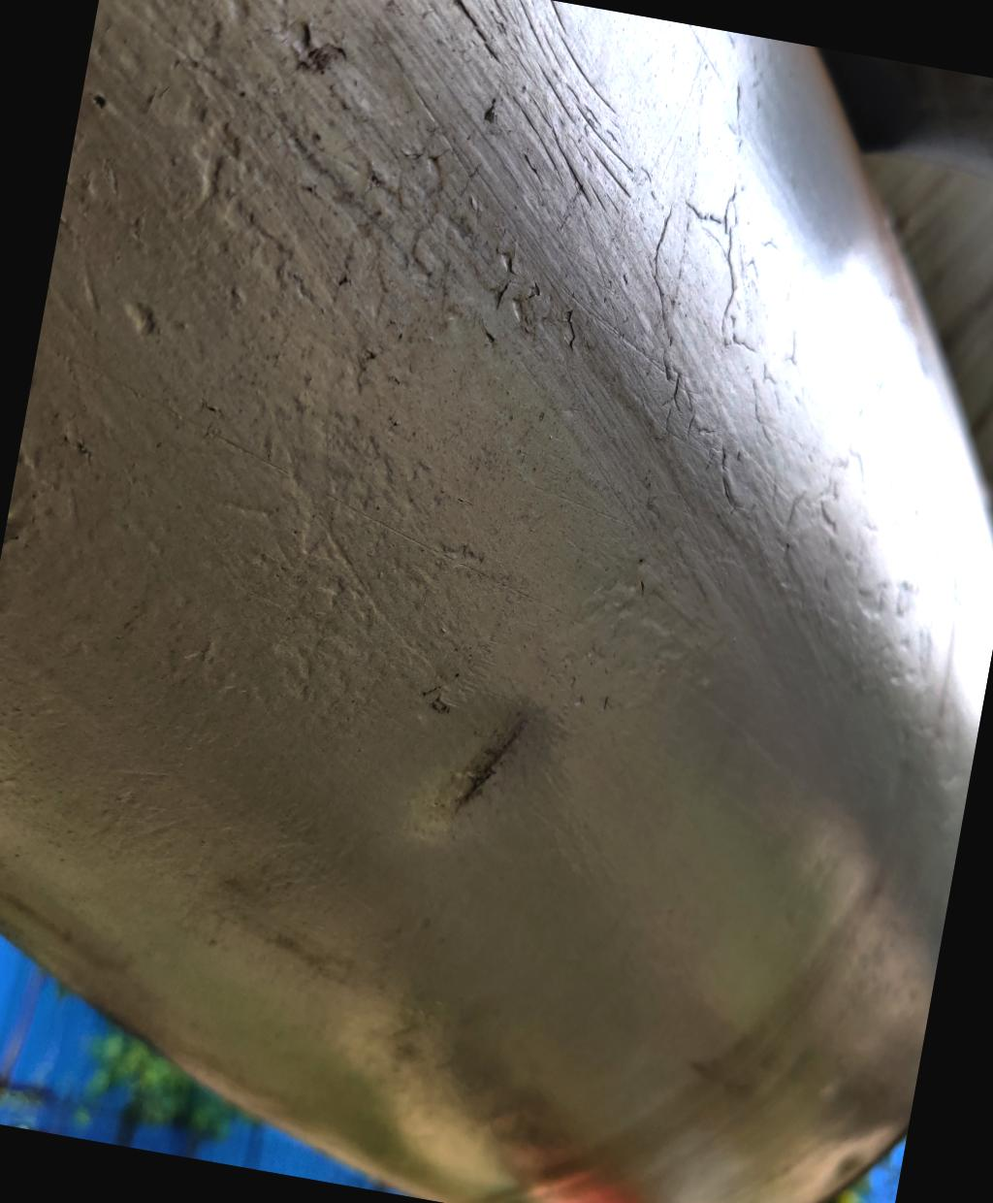dent: (391, 630, 600, 879)
